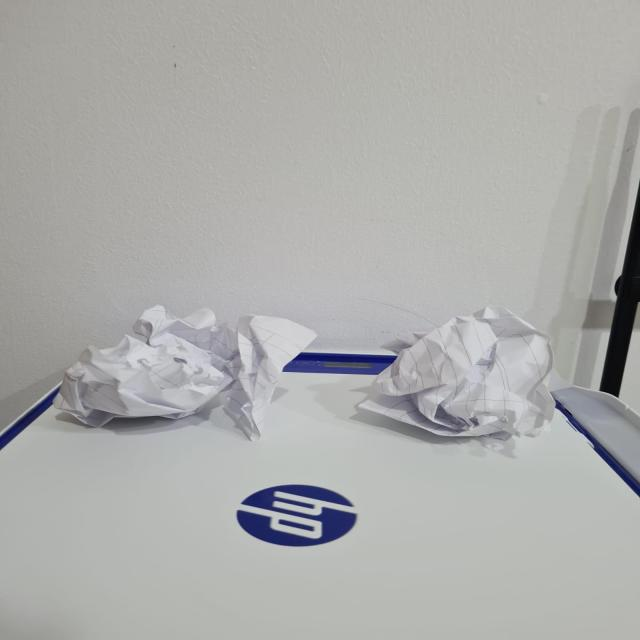kertas: (59, 302, 311, 438), (378, 302, 560, 453)
